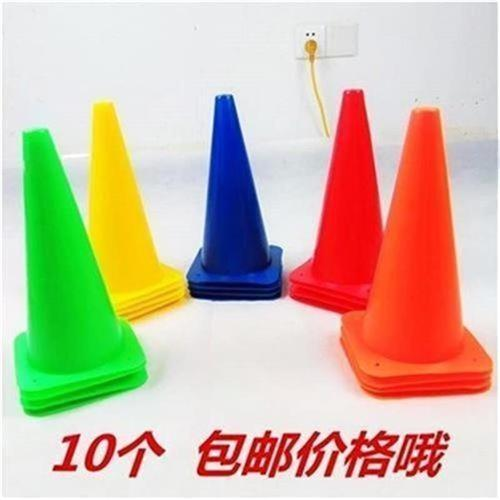cone_barrel: (4, 137, 147, 402), (347, 109, 479, 381), (77, 106, 176, 321), (296, 91, 386, 305), (183, 99, 279, 293)
